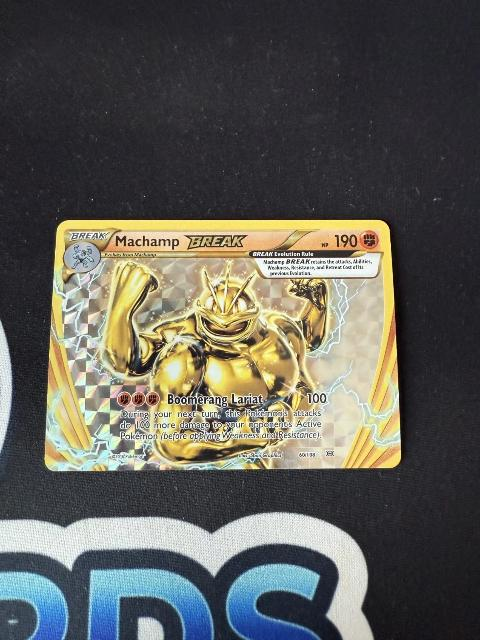Card: (41, 214, 407, 478)
Name: (111, 230, 250, 253)
